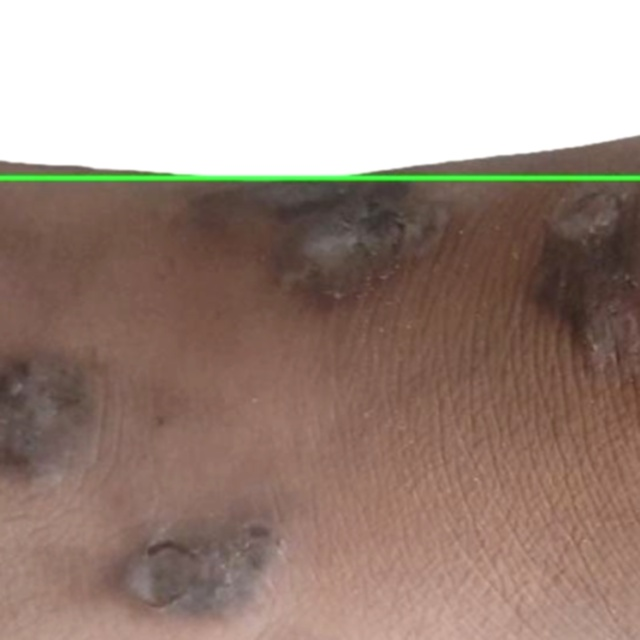Contact Dermatitis: (0, 0, 639, 177)
